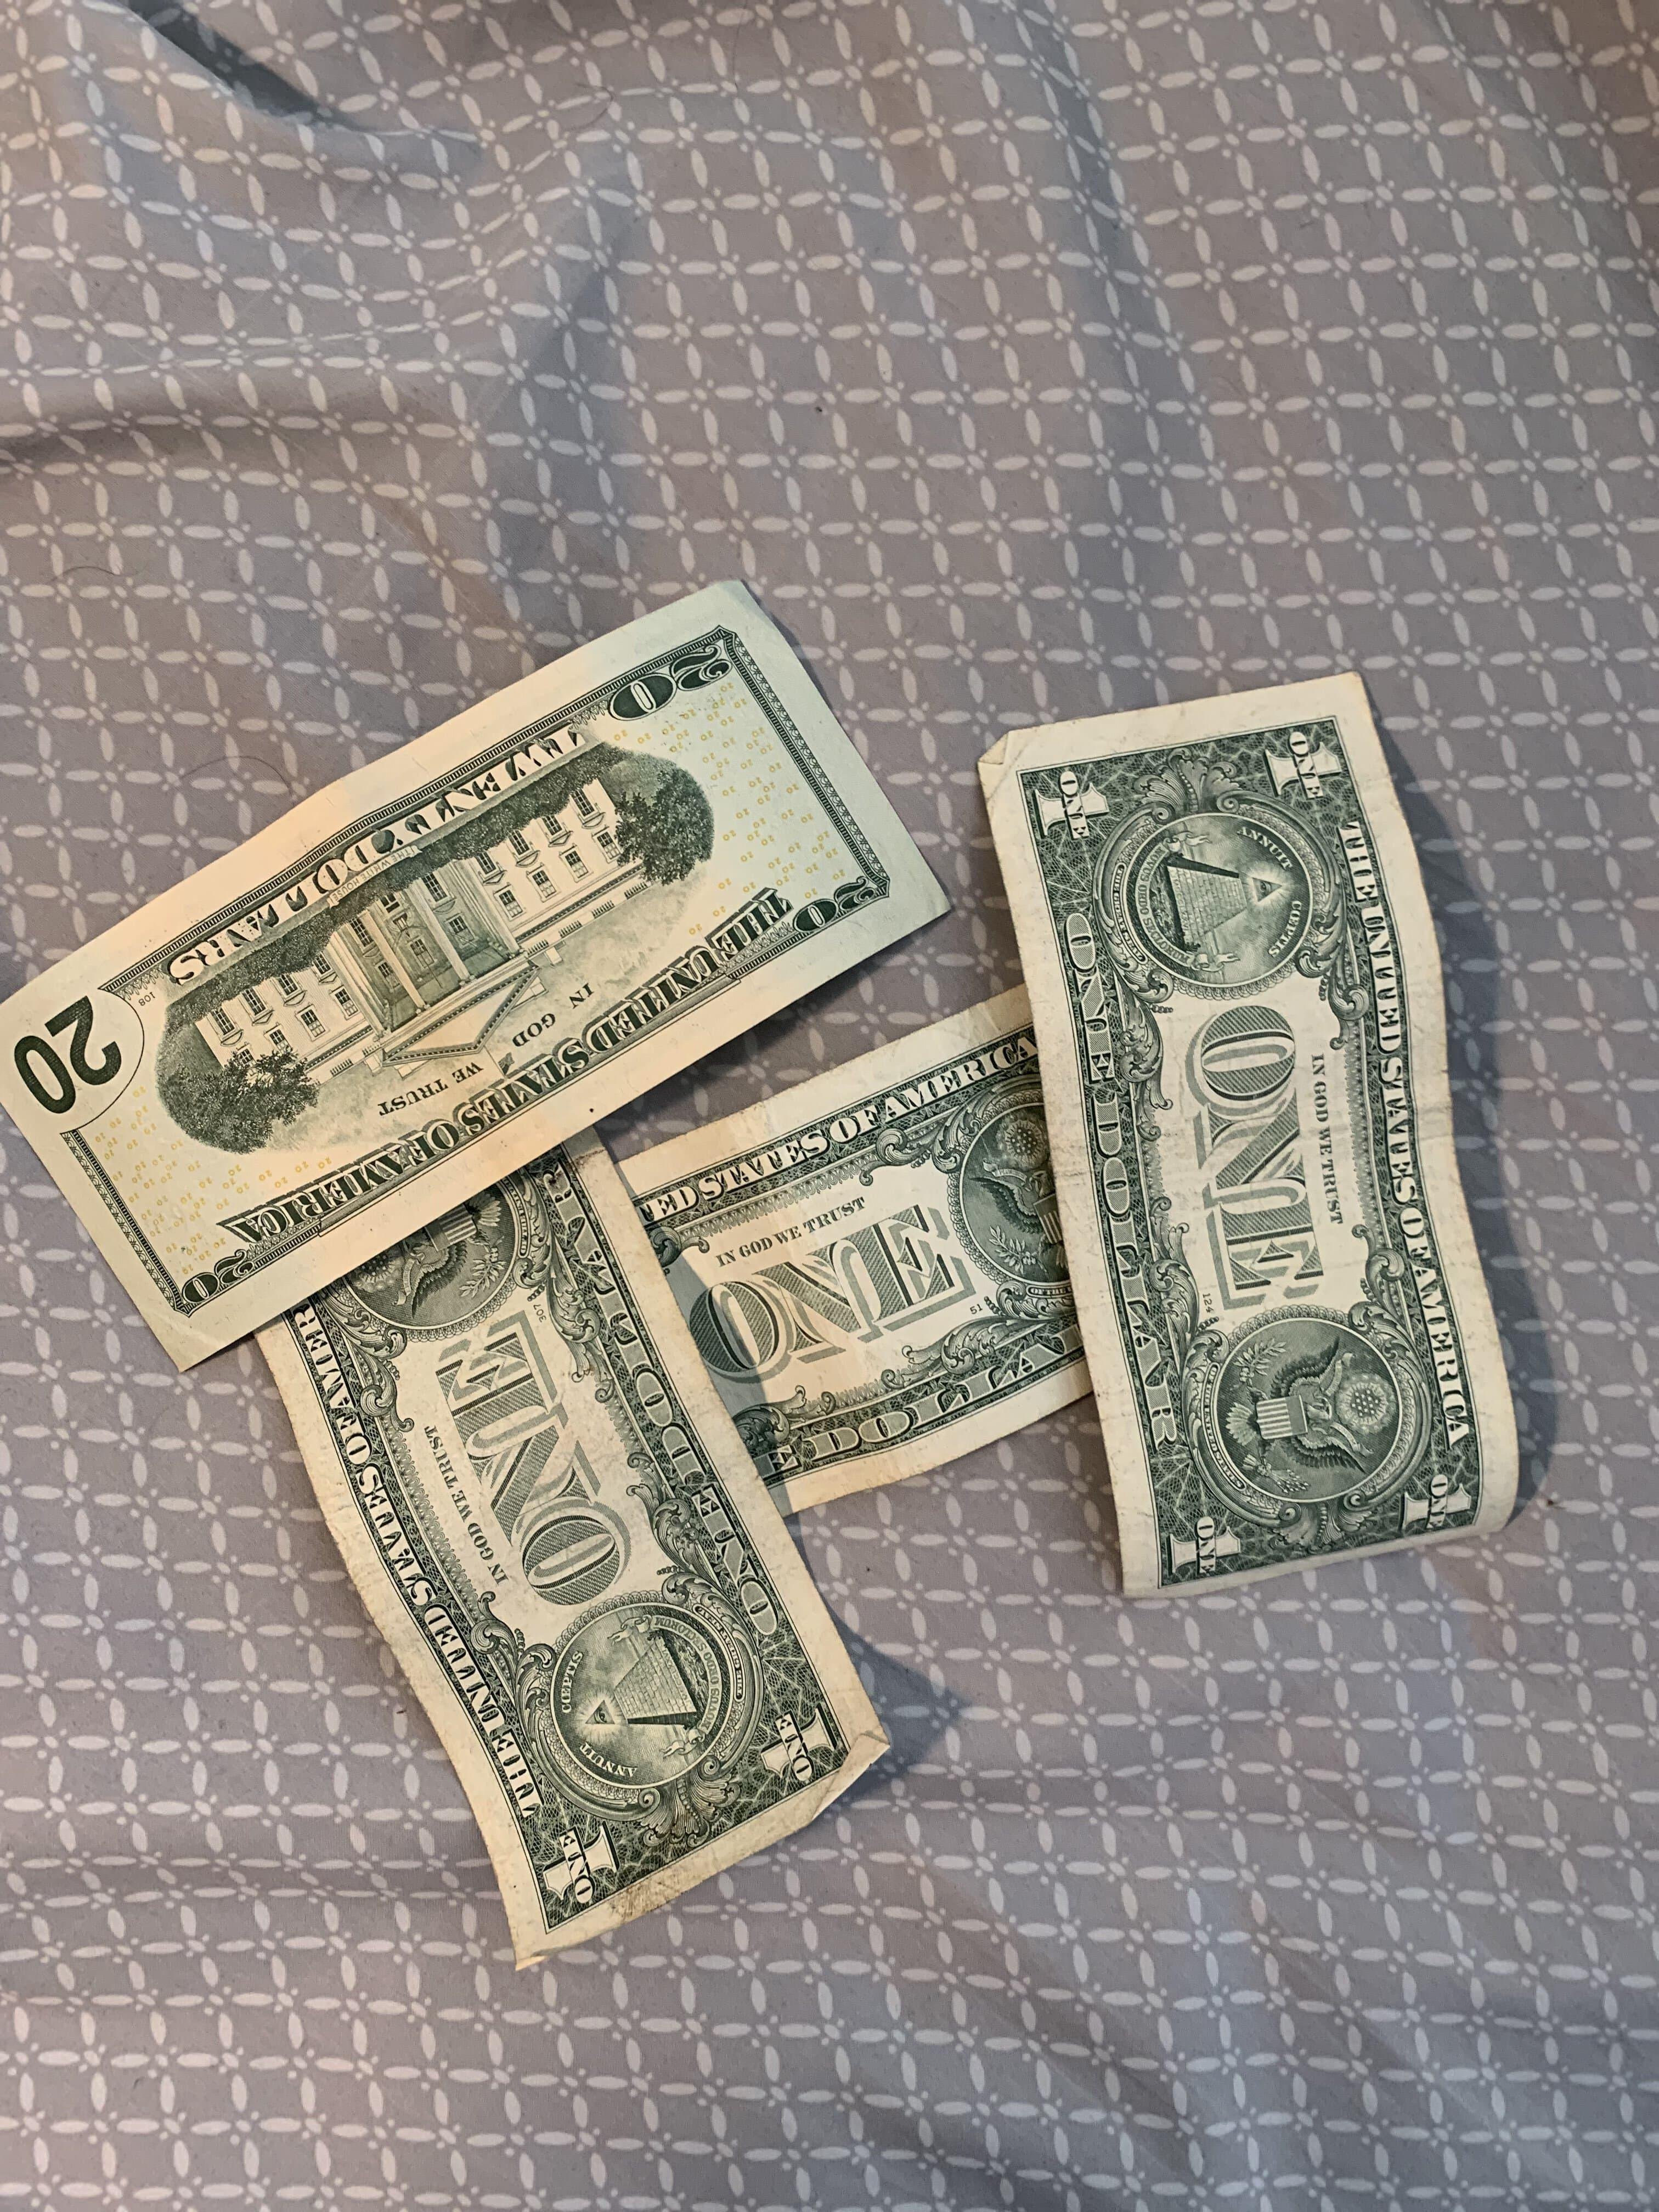OneBill: (931, 653, 1572, 1611), (206, 1122, 910, 1984), (606, 934, 1103, 1571)
TwentyBill: (2, 533, 951, 1385)
